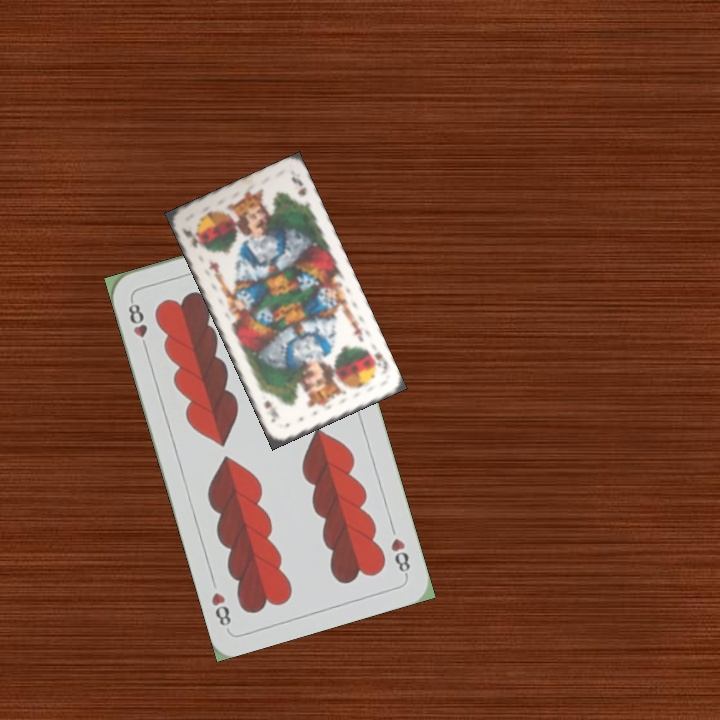H8: (124, 295, 151, 353), (387, 533, 413, 579)
SK: (363, 344, 391, 377), (178, 223, 203, 250)
